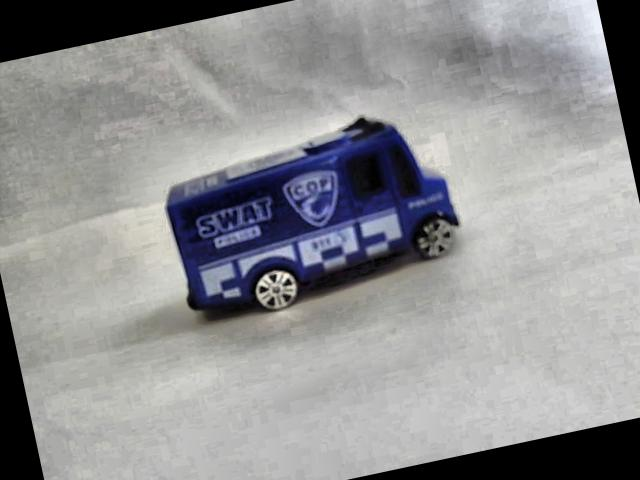police car: (148, 103, 470, 321)
